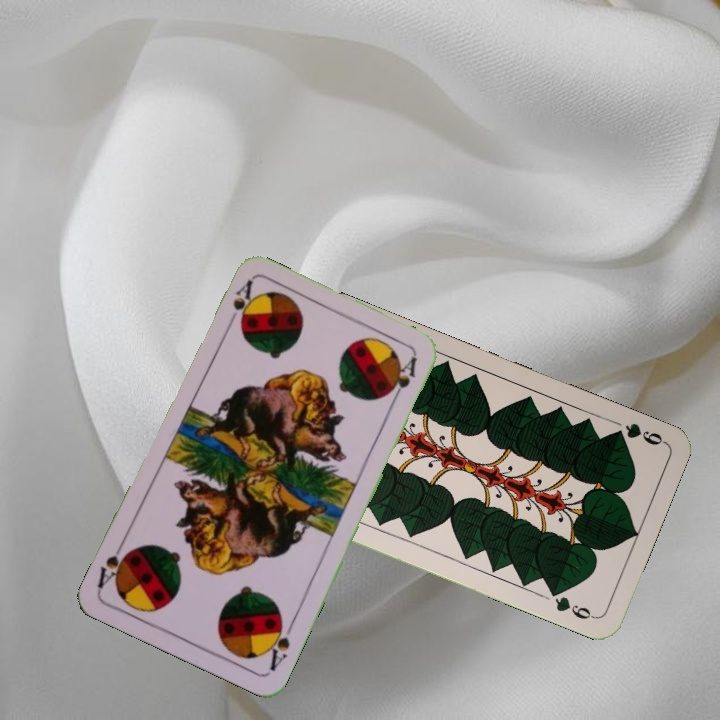G9: (607, 419, 667, 448)
SA: (261, 613, 297, 674), (225, 276, 255, 332)
